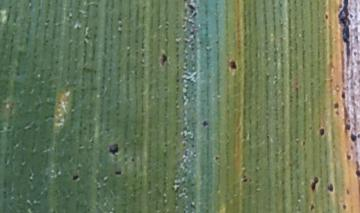tarspot: (336, 1, 352, 71), (309, 175, 320, 195), (107, 142, 120, 156), (227, 57, 238, 73), (332, 100, 341, 116), (159, 51, 166, 66), (317, 127, 326, 138), (344, 121, 352, 133), (326, 183, 334, 194), (339, 90, 347, 101), (200, 119, 209, 128), (71, 173, 80, 182), (113, 169, 123, 177), (308, 202, 315, 212), (348, 132, 355, 142), (354, 168, 360, 179), (345, 153, 353, 161), (213, 154, 221, 162), (345, 187, 350, 198), (241, 174, 247, 183), (323, 13, 329, 21), (130, 156, 136, 164), (341, 203, 347, 210)
